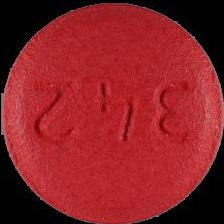55700-290: (0, 0, 224, 224)
